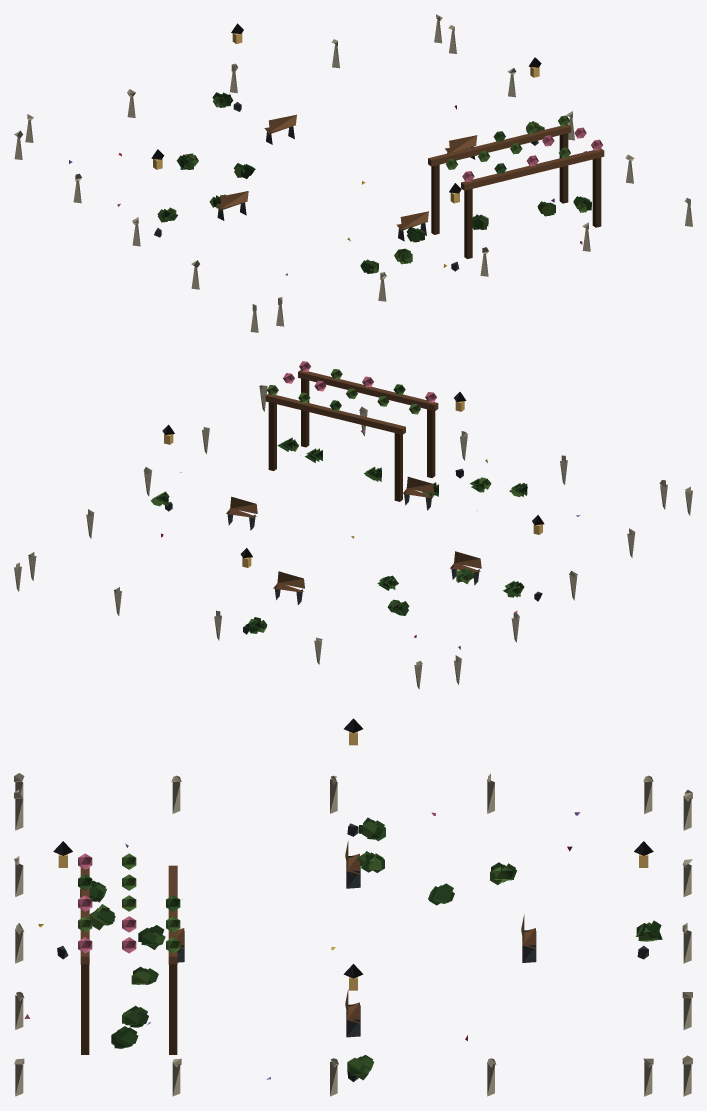
Rendered from deco_park.glb.
3 renders of one model, top to bottom at view 1: azimuth 30°, elevation 25°; view 2: azimuth 150°, elevation 25°; view 3: azimuth 270°, elevation 25°, orthographic. The views are drawn at different scales.
Bounding box in the file's own units: 5.52 × 1.04 × 5.52.
